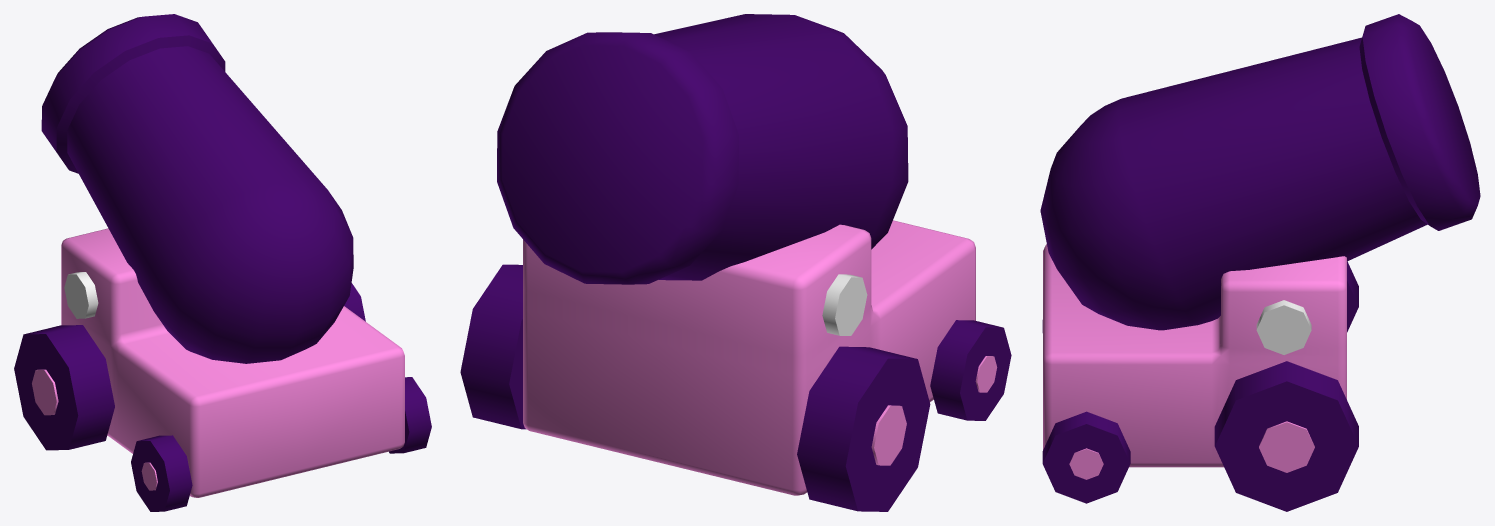
The model's file is Cannon.fbx.
3 renders of one model, left to right at view 1: azimuth 30°, elevation 25°; view 2: azimuth 150°, elevation 25°; view 3: azimuth 270°, elevation 25°, orthographic. The views are drawn at different scales.
Parts seen in each view (by area): view 1: Cannon, Cannon_body; view 2: Cannon_body, Cannon; view 3: Cannon, Cannon_body.
Part boxes in pixels (<box>): Cannon: <box>41,14,353,363</box>; Cannon_body: <box>14,228,431,511</box>; Cannon_body: <box>460,220,1011,511</box>; Cannon: <box>497,14,908,284</box>; Cannon: <box>1040,14,1480,330</box>; Cannon_body: <box>1042,244,1358,511</box>.
Size of the model in its own units: 6.09 by 7.14 by 6.99.
